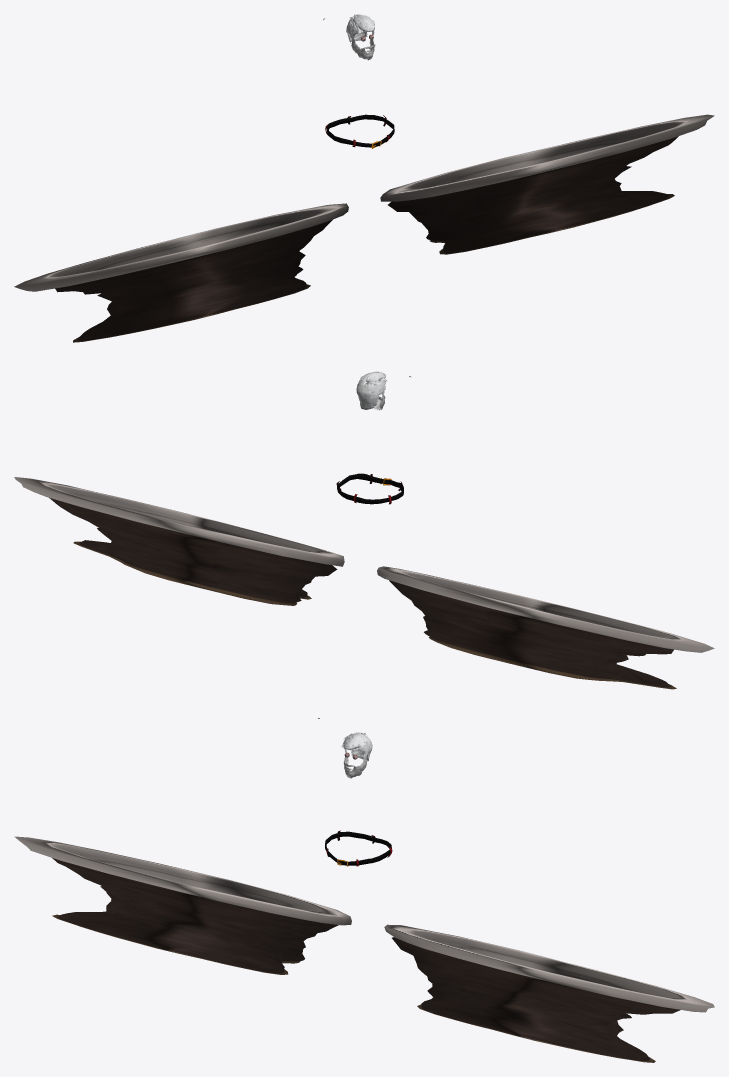
The model's file is santas sleigh.glb.
3 views of the same model, one above another, from view 1: azimuth 30°, elevation 25°; view 2: azimuth 150°, elevation 25°; view 3: azimuth 330°, elevation 25° (orthographic).
Visible parts, largest first — view 1: Object_22, Object_22.002; view 2: Object_22.002, Object_22.003, Object_22, Object_11; view 3: Object_22, Object_22.002, Object_11.004.
Part boxes in pixels (x1,y1,x2,y2): Object_22: (14, 115, 714, 342); Object_22.002: (15, 114, 711, 342); Object_22.002: (15, 478, 713, 689); Object_22.003: (14, 477, 714, 689); Object_22: (16, 477, 713, 689); Object_11: (356, 371, 386, 409); Object_22: (14, 836, 714, 1062); Object_22.002: (16, 836, 714, 1058); Object_11.004: (341, 732, 372, 760).
Size of the model in its own units: 53480 by 18688 by 4263.
56 materials, 43 textured.
